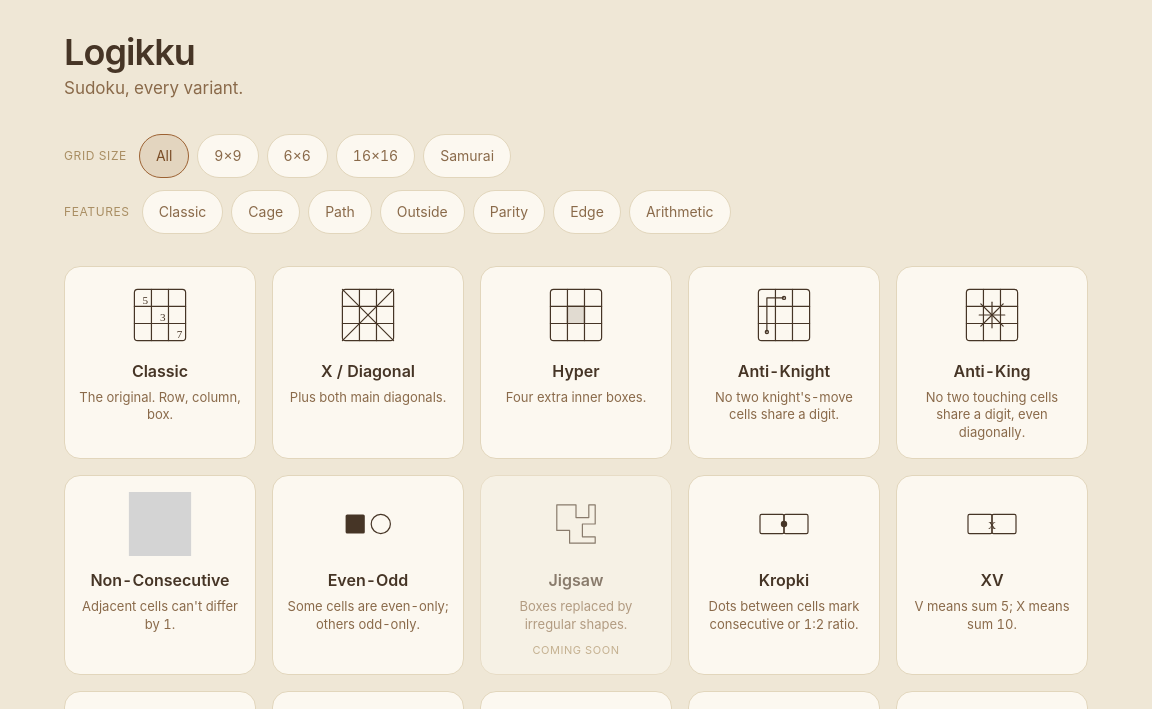
Scenario: Home › grid-size filter narrows the visible set
The image size is (1152, 709).
Check: the link with test id "variant-card-classic" is shown, box [64,266,256,459]
Click the button with test id "filter-size-6x6": (297, 156) [267,134,328,178]
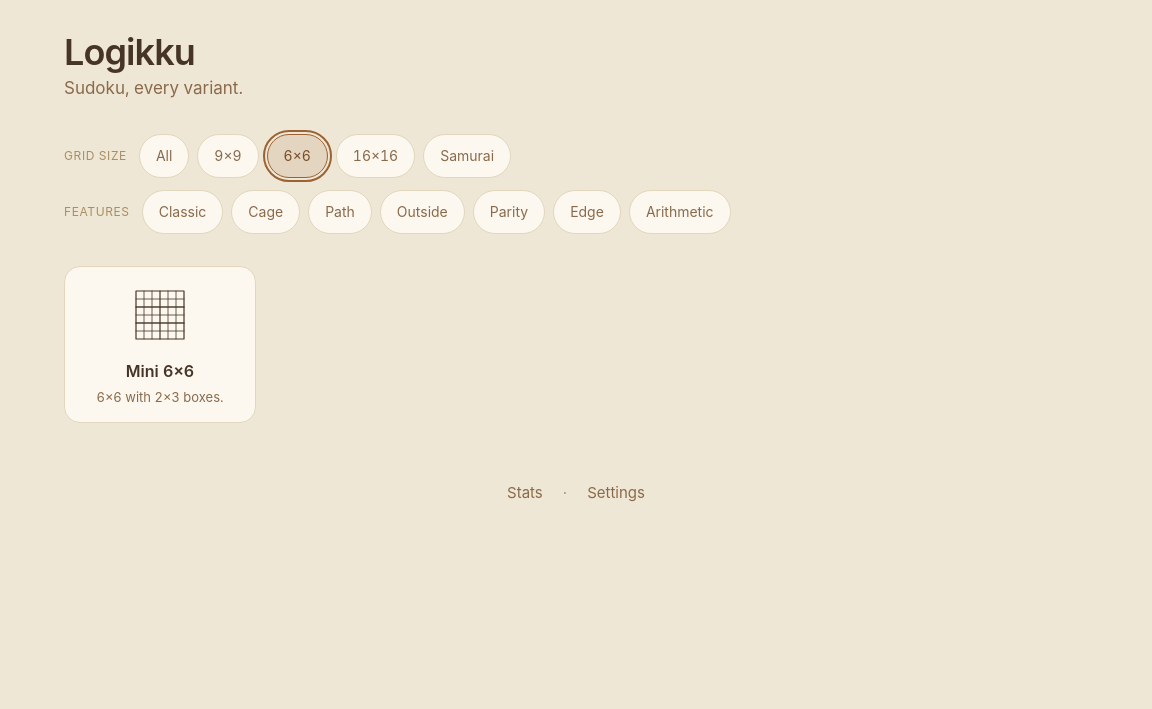
Check: the link with test id "variant-card-mini-6" is shown, box [64,266,256,423]
Check: the link with test id "variant-card-classic" is gone
